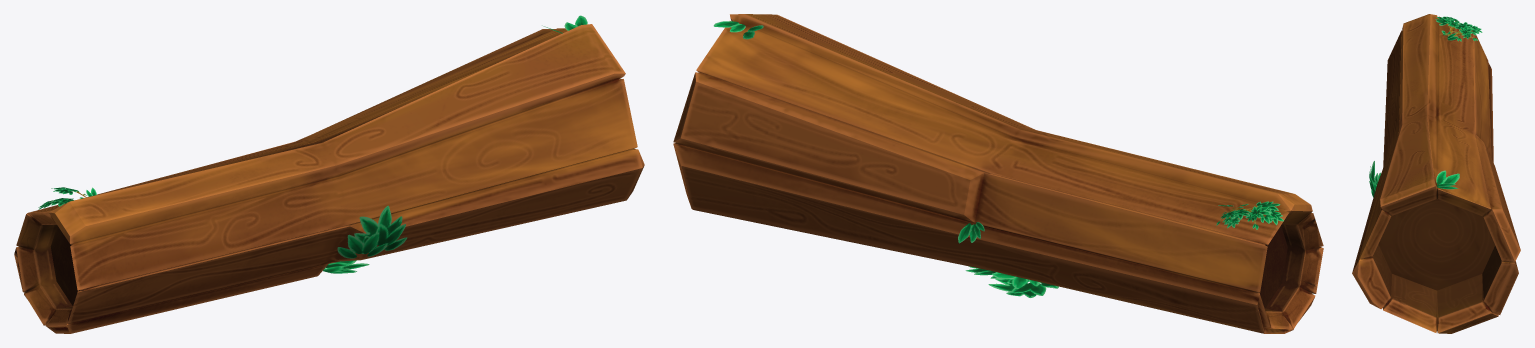
Rendered from 11_Tronco_Verde_Oscuro.fbx.
3 views of the same model, side by side, from view 1: azimuth 30°, elevation 25°; view 2: azimuth 150°, elevation 25°; view 3: azimuth 270°, elevation 25° (orthographic). The views are drawn at different scales.
Parts seen in each view (by area): view 1: 11_Tronco_Verde_Oscuro_LOD_0; view 2: 11_Tronco_Verde_Oscuro_LOD_0; view 3: 11_Tronco_Verde_Oscuro_LOD_0.
Part boxes in pixels (left/top/right/bottom): 11_Tronco_Verde_Oscuro_LOD_0: left=14, top=15, right=644, bottom=333; 11_Tronco_Verde_Oscuro_LOD_0: left=673, top=14, right=1323, bottom=333; 11_Tronco_Verde_Oscuro_LOD_0: left=1352, top=14, right=1520, bottom=333.
Bounding box in the file's own units: 575 × 184 × 185.
